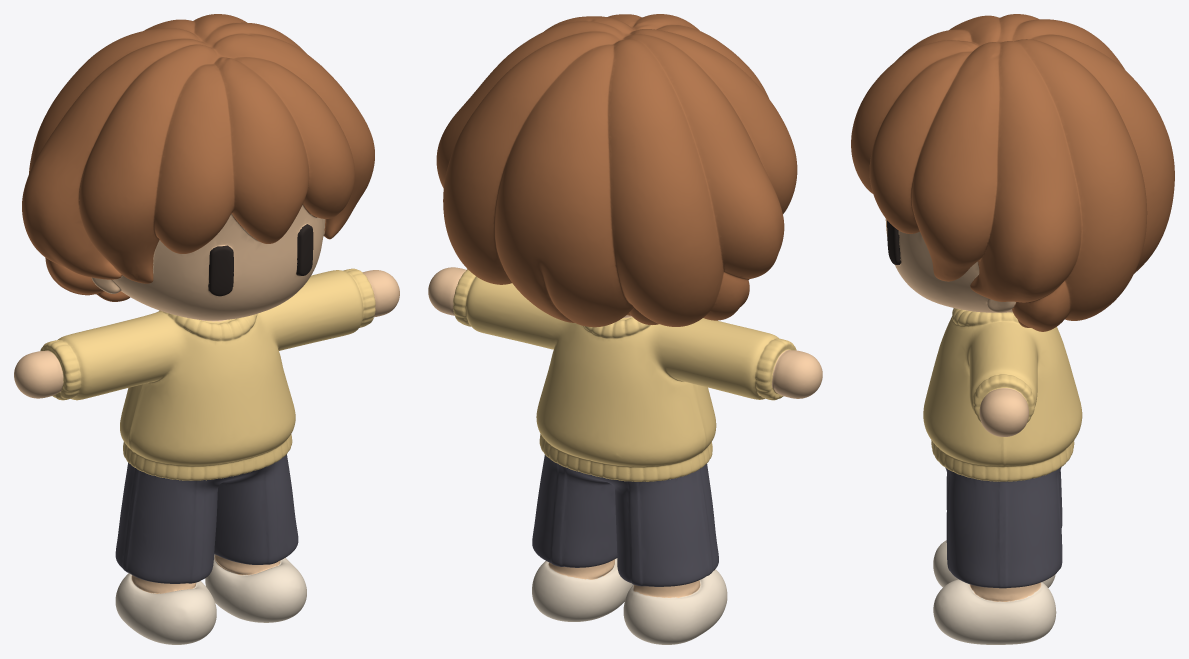
3 renders of one model, left to right at view 1: azimuth 30°, elevation 25°; view 2: azimuth 150°, elevation 25°; view 3: azimuth 270°, elevation 25°, orthographic. The views are drawn at different scales.
Parts seen in each view (by area): view 1: Mushroom_OriginalSurface_6Materials; view 2: Mushroom_OriginalSurface_6Materials; view 3: Mushroom_OriginalSurface_6Materials.
Boxes of the visible parts, bbox=[...] form: Mushroom_OriginalSurface_6Materials: bbox=[14, 14, 399, 644]; Mushroom_OriginalSurface_6Materials: bbox=[428, 14, 822, 644]; Mushroom_OriginalSurface_6Materials: bbox=[851, 14, 1174, 644].
Size of the model in its own units: 1.3 by 1.9 by 0.9662.
